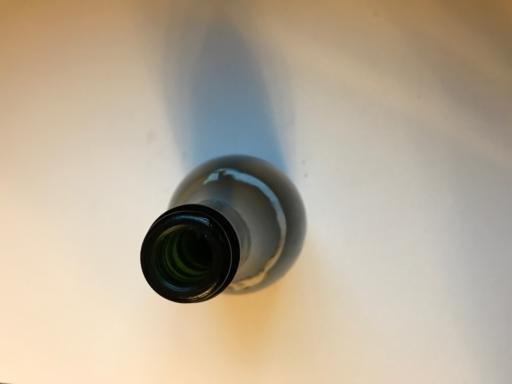botolkaca: (141, 153, 309, 304)
